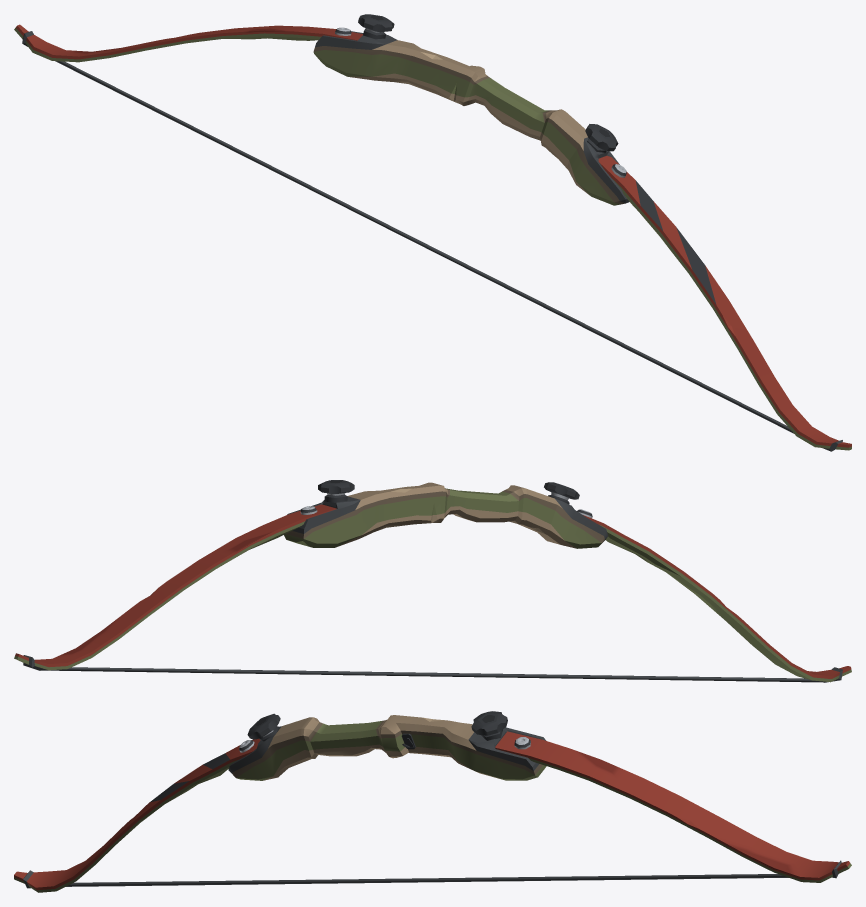
File: bw-recurve-03.glb
The picture shows the model from 3 angles, top to bottom: view 1: azimuth 90°, elevation 25°; view 2: azimuth 150°, elevation 25°; view 3: azimuth 270°, elevation 25°; orthographic projection.
Parts seen in each view (by area): view 1: bw-recurve-03; view 2: bw-recurve-03; view 3: bw-recurve-03.
Boxes of the visible parts, <box> form: bw-recurve-03: <box>14,14,851,451</box>; bw-recurve-03: <box>14,480,851,682</box>; bw-recurve-03: <box>14,711,851,892</box>.
Bounding box in the file's own units: 0.7769 × 0.5288 × 1.33.
Materials: 1 (1 with a texture image).
